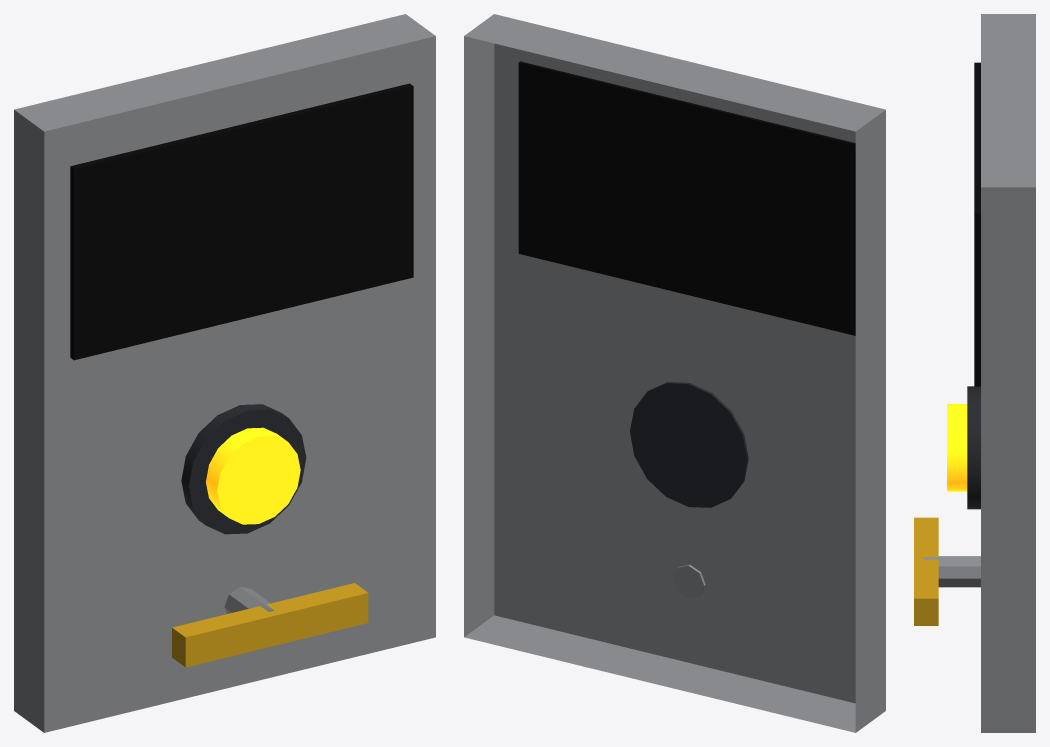
The model's file is SM_Panel_Presion.fbx.
3 views of the same model, side by side, from view 1: azimuth 30°, elevation 25°; view 2: azimuth 150°, elevation 25°; view 3: azimuth 270°, elevation 25° (orthographic). The views are drawn at different scales.
Visible parts, largest first — view 1: SM_Panel_Presion; view 2: SM_Panel_Presion; view 3: SM_Panel_Presion.
Boxes of the visible parts, x1=… form: SM_Panel_Presion: x1=14, y1=14, x2=435, y2=732; SM_Panel_Presion: x1=464, y1=14, x2=885, y2=732; SM_Panel_Presion: x1=914, y1=14, x2=1035, y2=732.
Bounding box in the file's own units: 0.3 × 0.44 × 0.089.
